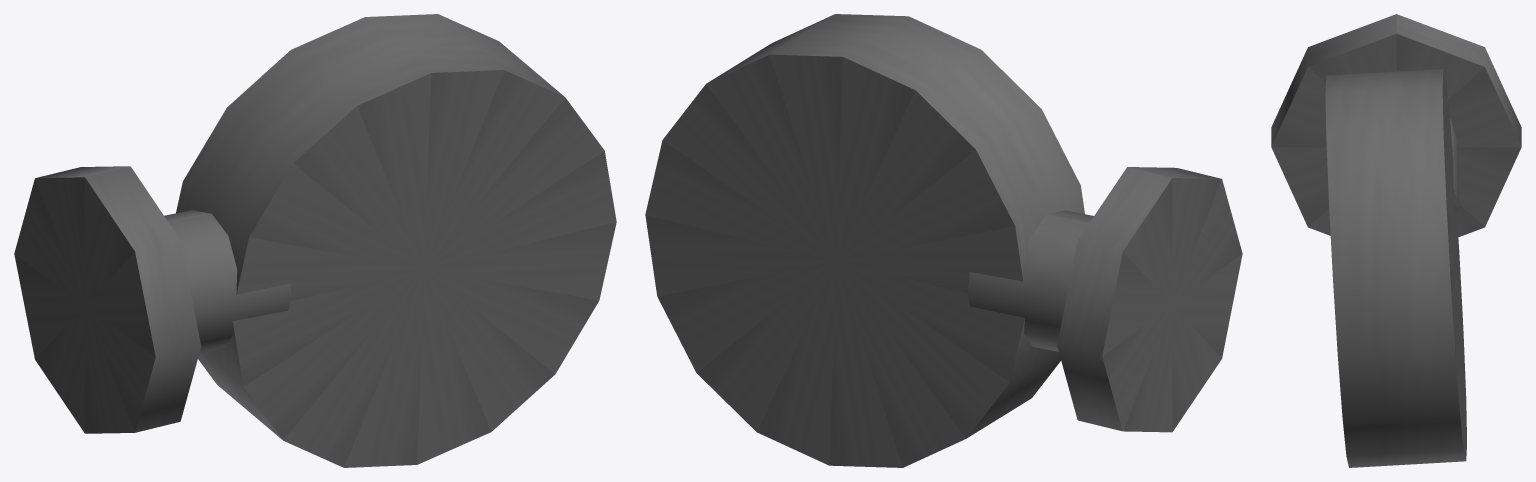
File: mastarmcurve_4x1_c4_west.obj
The picture shows the model from 3 angles, left to right: view 1: azimuth 30°, elevation 25°; view 2: azimuth 150°, elevation 25°; view 3: azimuth 270°, elevation 25°; orthographic projection. The views are drawn at different scales.
Visible parts, largest first — view 1: mastarm_4x1_c4_west; view 2: mastarm_4x1_c4_west; view 3: mastarm_4x1_c4_west.
Part boxes in pixels (box(x1,y1,x2,y2)): mastarm_4x1_c4_west: box(14, 14, 616, 467); mastarm_4x1_c4_west: box(645, 14, 1242, 467); mastarm_4x1_c4_west: box(1271, 14, 1521, 467).
Bounding box in the file's own units: 0.8134 × 0.6386 × 0.4.
